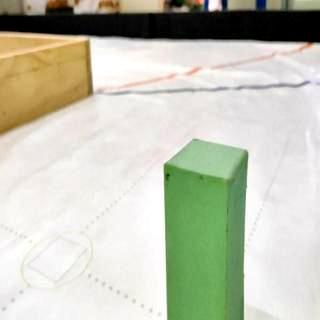greenbox: (162, 135, 248, 320)
